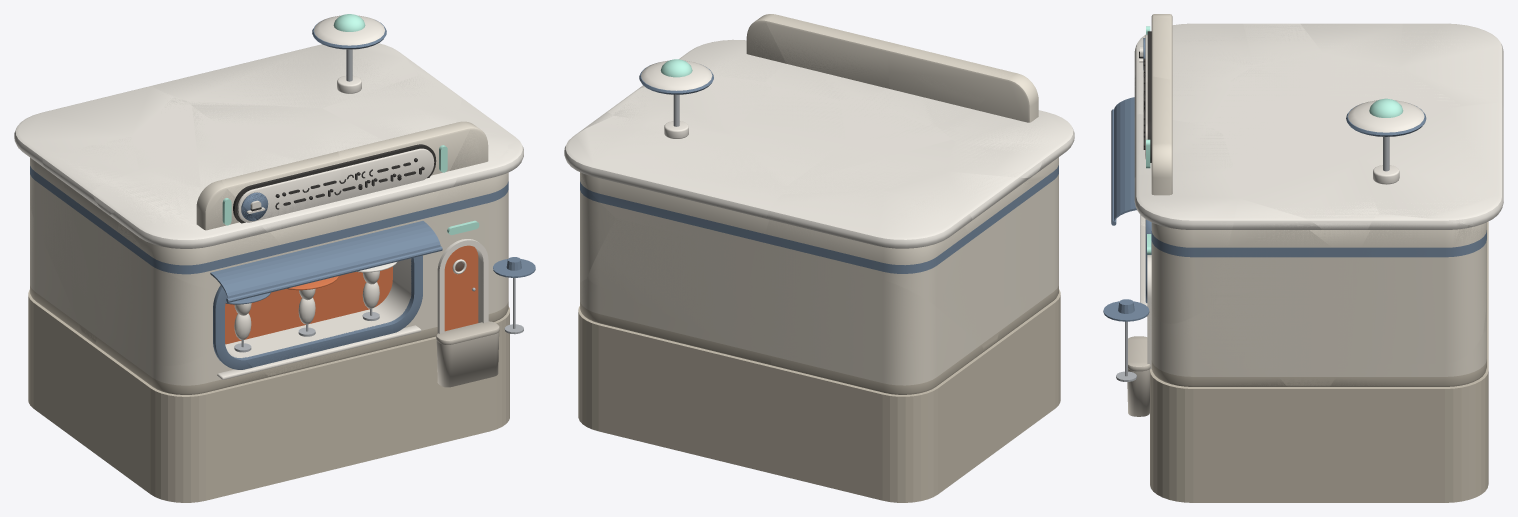
Rendered from Loja_Roupas.fbx.
3 renders of one model, left to right at view 1: azimuth 30°, elevation 25°; view 2: azimuth 150°, elevation 25°; view 3: azimuth 270°, elevation 25°, orthographic. The views are drawn at different scales.
Visible parts, largest first — view 1: LOD0_Predio.009, LOD0_Base.009, Caco_22.007, Caco_14.009, Caco_02.009, Caco_15.009, Caco_19.009, Caco_05.009, Caco_01.009, Caco_21.007, LOD0_Obj_Marquise, Caco_17.009 (+11 smaller); view 2: LOD0_Predio.009, LOD0_Base.009, Caco_22.007, Caco_06.009, Caco_14.009, Caco_07.009, Caco_05.009, Caco_03.009, Caco_09.009, Caco_15.009, Caco_10.009, Caco_12.009 (+10 smaller); view 3: LOD0_Base.009, LOD0_Predio.009, Caco_08.009, Caco_20.007, Caco_22.007, Caco_21.007, Caco_09.009, Caco_01.009, Caco_14.009, Caco_10.009, Caco_05.009, Caco_16.009 (+10 smaller).
Part boxes in pixels (x1,y1,x2,y2): LOD0_Predio.009: (21, 14, 519, 394); LOD0_Base.009: (28, 289, 509, 502); Caco_22.007: (151, 14, 417, 107); Caco_14.009: (14, 86, 173, 340); Caco_02.009: (104, 223, 242, 365); Caco_15.009: (110, 180, 280, 293); Caco_19.009: (230, 236, 396, 375); Caco_05.009: (336, 122, 469, 239); Caco_01.009: (366, 250, 508, 345); Caco_21.007: (425, 121, 523, 265); LOD0_Obj_Marquise: (210, 221, 442, 302); Caco_17.009: (221, 151, 340, 244); LOD0_Predio.009: (564, 14, 1072, 393); LOD0_Base.009: (578, 289, 1060, 502); Caco_22.007: (564, 59, 782, 251); Caco_06.009: (763, 242, 983, 394); Caco_14.009: (763, 190, 1004, 346); Caco_07.009: (587, 218, 754, 343); Caco_05.009: (766, 14, 901, 99); Caco_03.009: (884, 171, 1028, 302); Caco_09.009: (606, 75, 772, 134); Caco_15.009: (940, 73, 1074, 182); Caco_10.009: (734, 88, 846, 187); Caco_12.009: (580, 278, 737, 356); LOD0_Base.009: (1150, 221, 1488, 502); LOD0_Predio.009: (1134, 14, 1503, 386); Caco_08.009: (1343, 214, 1486, 365); Caco_20.007: (1215, 198, 1352, 386); Caco_22.007: (1346, 98, 1503, 238); Caco_21.007: (1134, 144, 1238, 323); Caco_09.009: (1224, 158, 1377, 262); Caco_01.009: (1141, 230, 1287, 386); Caco_14.009: (1398, 23, 1503, 105); Caco_10.009: (1223, 108, 1447, 166); Caco_05.009: (1134, 76, 1232, 222); Caco_16.009: (1250, 54, 1461, 108).
Size of what is drawn, in the model's own units: 11.2 by 9.69 by 9.55.
